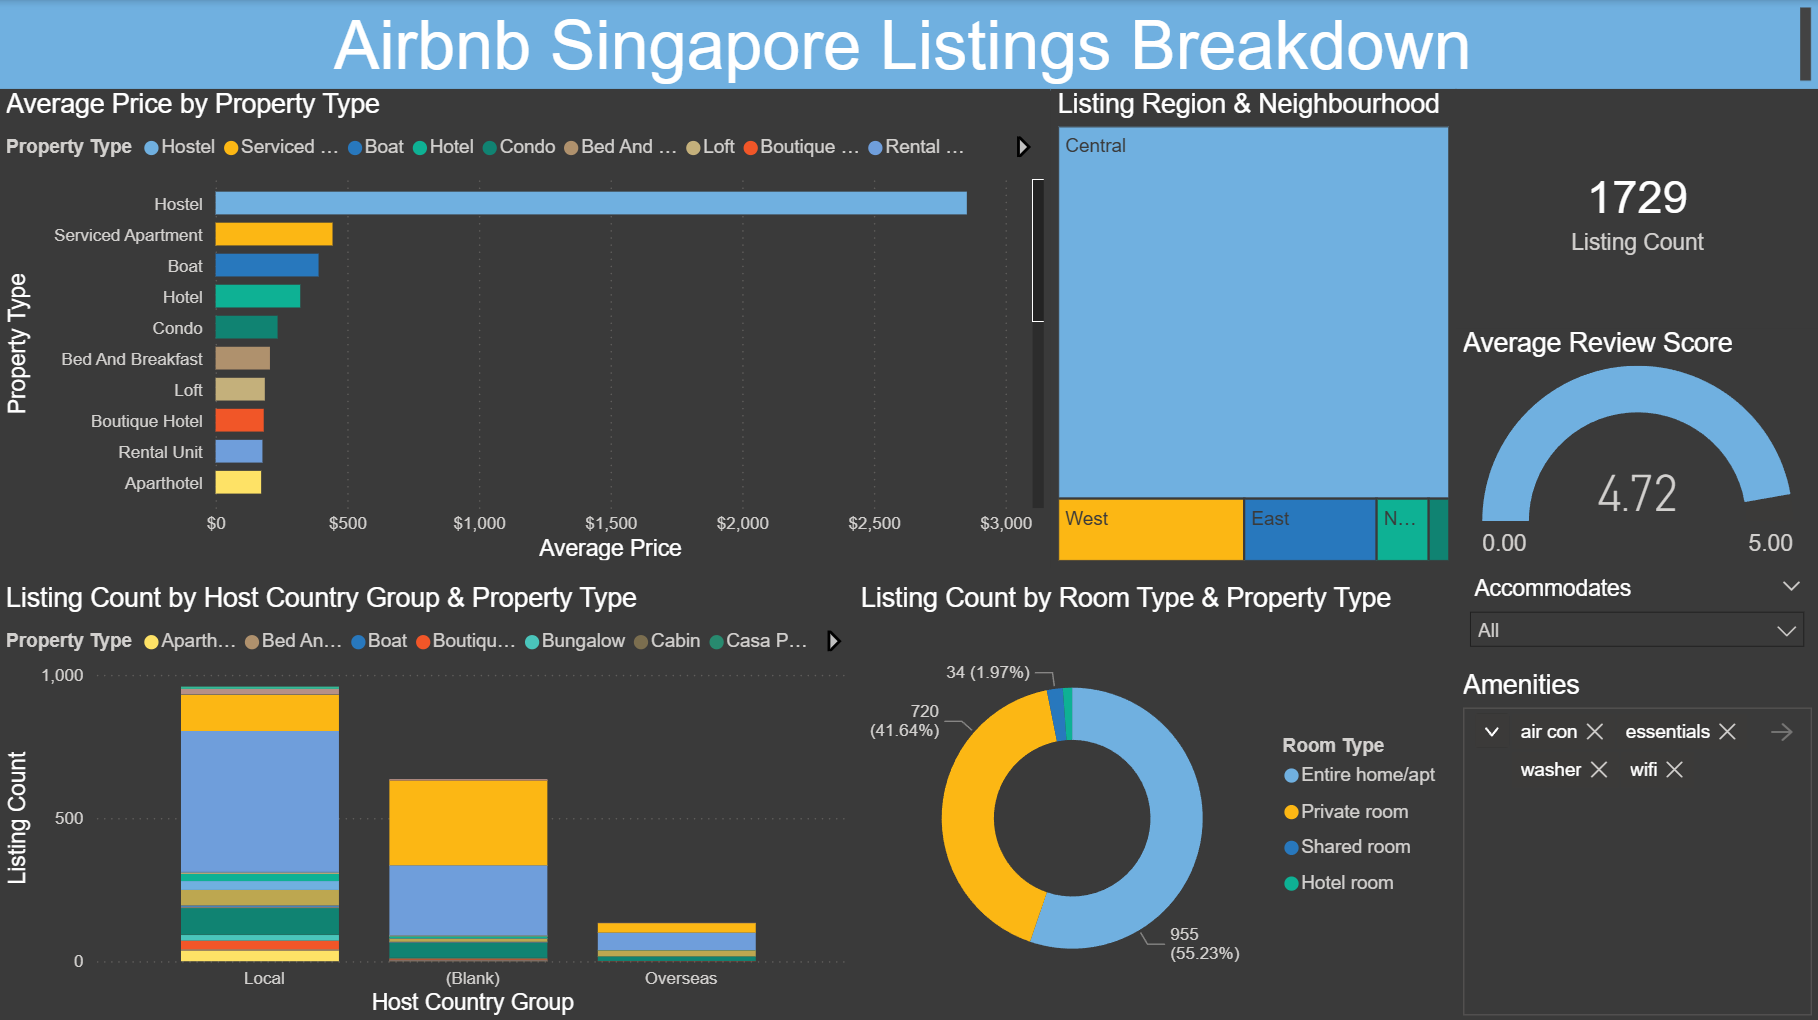

Layout of this report page (visuals, bound fields, positions):
{"tool":"powerbi","page":{"name":"Dashboard","canvas":[1280,720],"ordinal":3},"visuals":[{"type":"textbox","box":[0,0,1280.1,63.5],"z":0},{"type":"gauge","title":"Average Review Score","fields":{"Y":["Avg(reviews (unpivot).score)"],"MaxValue":["Max(reviews (unpivot).score)1"]},"box":[1025.1,231,255.1,168.4],"z":1000},{"type":"card","fields":{"Values":["Count(listings.listing_id)"]},"box":[1025.1,62.6,255.1,168.4],"z":2000},{"type":"barChart","title":"Average Price by Property Type","fields":{"Y":["Avg(listings.price)"],"Category":["listings.property_type"],"Series":["listings.property_type"]},"box":[0,62.6,739.9,336.9],"z":3000},{"type":"treemap","title":"Listing Region & Neighbourhood","fields":{"Group":["listings.region","listings.neighbourhood"],"Values":["Count(listings.listing_id)"]},"box":[739.9,62.6,285.1,336.9],"z":4000},{"type":"donutChart","title":"Listing Count by Room Type & Property Type","fields":{"Category":["listings.room_type","listings.property_type"],"Y":["CountNonNull(listings.listing_id)"]},"box":[601.6,410.3,423.5,309.2],"z":5000},{"type":"columnChart","title":"Listing Count by Host Country Group & Property Type","fields":{"Y":["CountNonNull(listings.listing_id)"],"Category":["hosts.host_country (groups)"],"Series":["listings.property_type"]},"box":[0,410,602,309],"z":6000},{"type":"textSlicer","fields":{"Values":["listings.amenities"]},"box":[1025.1,471.6,255.1,247.8],"z":7000},{"type":"slicer","fields":{"Values":["listings.accommodates"]},"box":[1025.1,399.4,255.1,72.2],"z":8000}]}

Visuals, with their boxes in screenshot pixels (x1, y1, x2, y2), scaled from the page's 1280x720 canvas onto the 1818x1020 screenshot:
textbox: {"x1": 0, "y1": 0, "x2": 1817, "y2": 90}
"Average Review Score" gauge: {"x1": 1456, "y1": 327, "x2": 1817, "y2": 566}
card - Count(listings.listing_id): {"x1": 1456, "y1": 89, "x2": 1817, "y2": 327}
"Average Price by Property Type" barChart: {"x1": 0, "y1": 89, "x2": 1051, "y2": 566}
"Listing Region & Neighbourhood" treemap: {"x1": 1051, "y1": 89, "x2": 1456, "y2": 566}
"Listing Count by Room Type & Property Type" donutChart: {"x1": 854, "y1": 581, "x2": 1456, "y2": 1019}
"Listing Count by Host Country Group & Property Type" columnChart: {"x1": 0, "y1": 581, "x2": 855, "y2": 1019}
textSlicer - listings.amenities: {"x1": 1456, "y1": 668, "x2": 1817, "y2": 1019}
slicer - listings.accommodates: {"x1": 1456, "y1": 566, "x2": 1817, "y2": 668}
